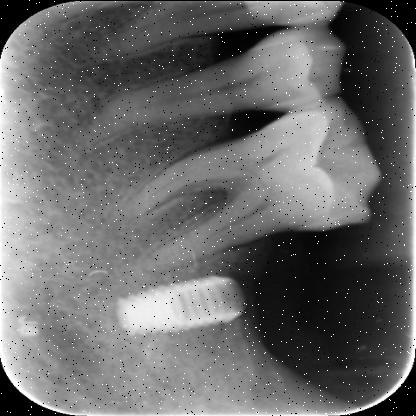Bicon: (113, 271, 252, 338)
